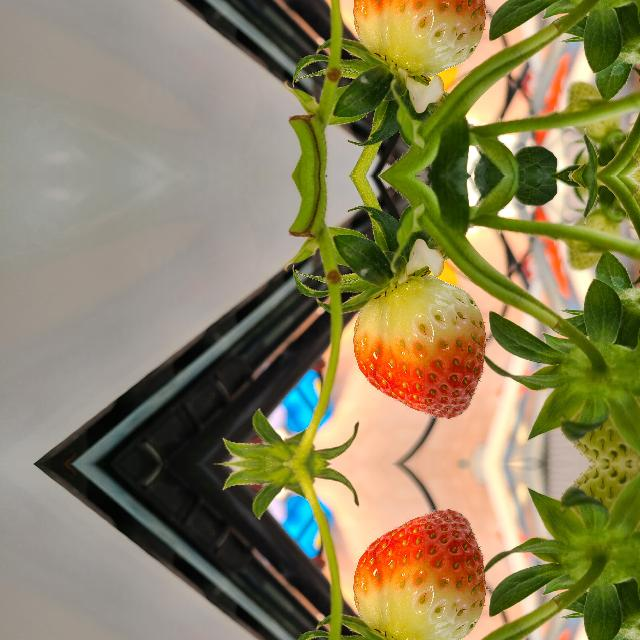Health_25: (539, 340, 639, 462), (539, 464, 639, 586)
Health_75: (352, 275, 486, 417), (352, 509, 485, 640), (352, 0, 485, 75)
